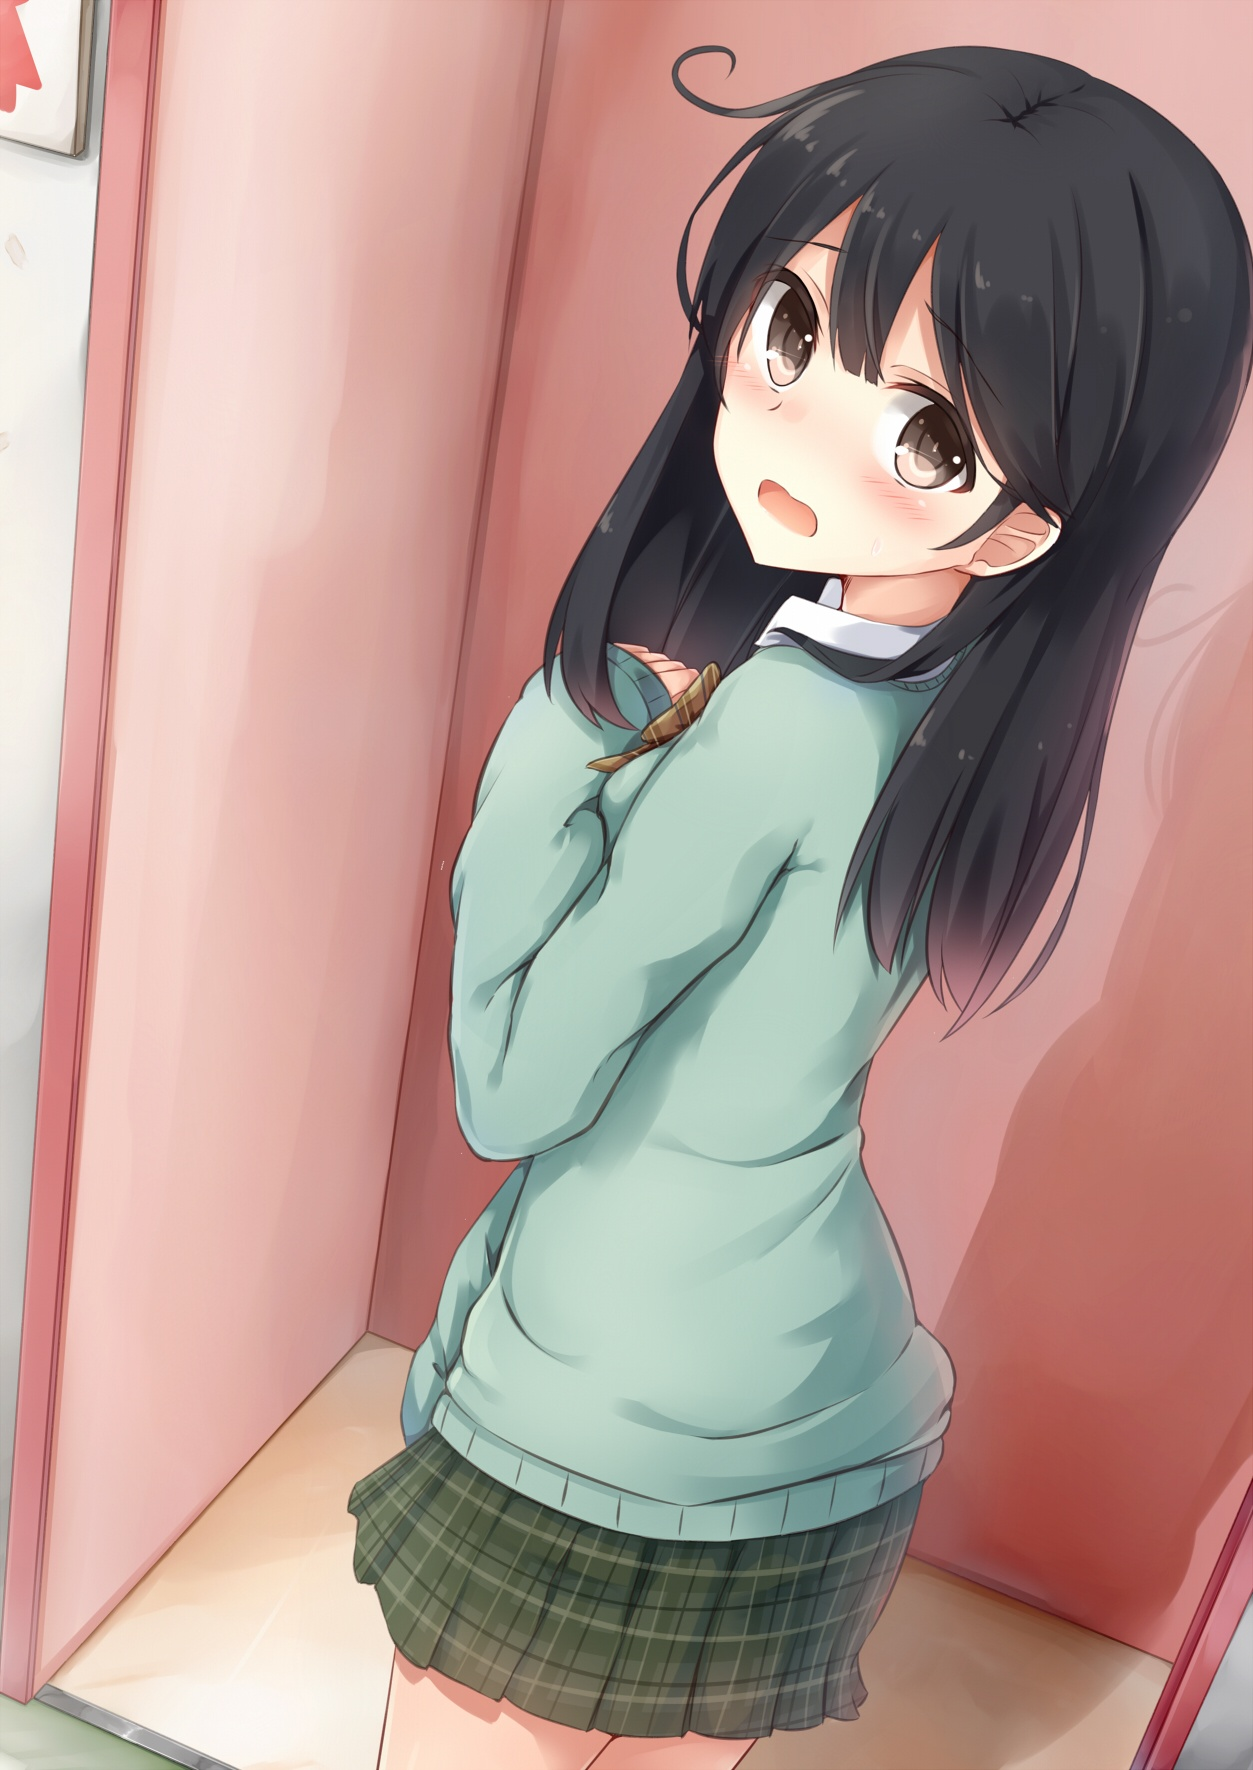纸片人正脸: (670, 26, 1252, 617)
